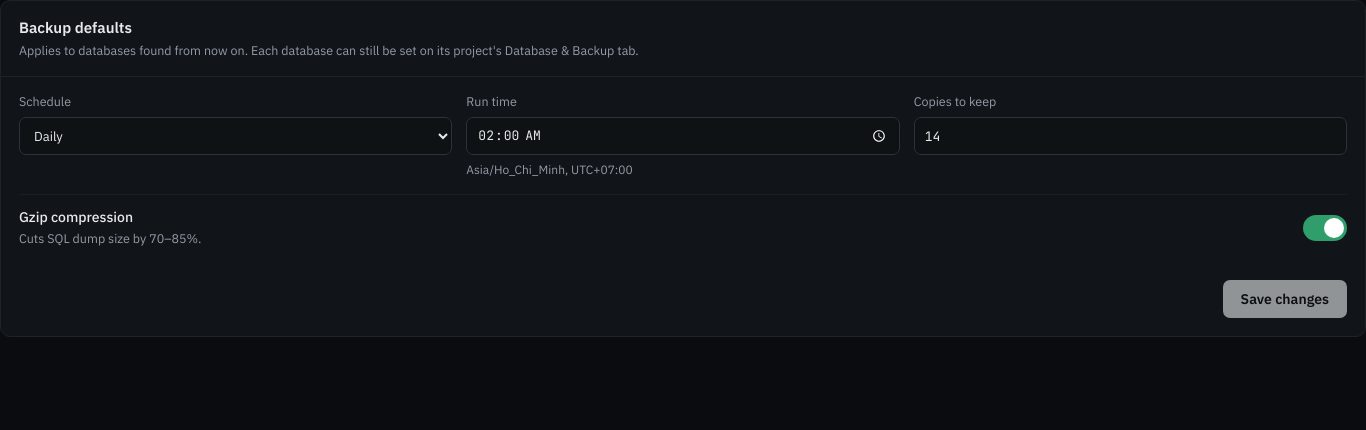
it: Backup defaults card › shows Day for Weekly, Monday first
Select "Weekly" in the dropdown labelled "Schedule" at (236, 136), box [19,117,452,155]
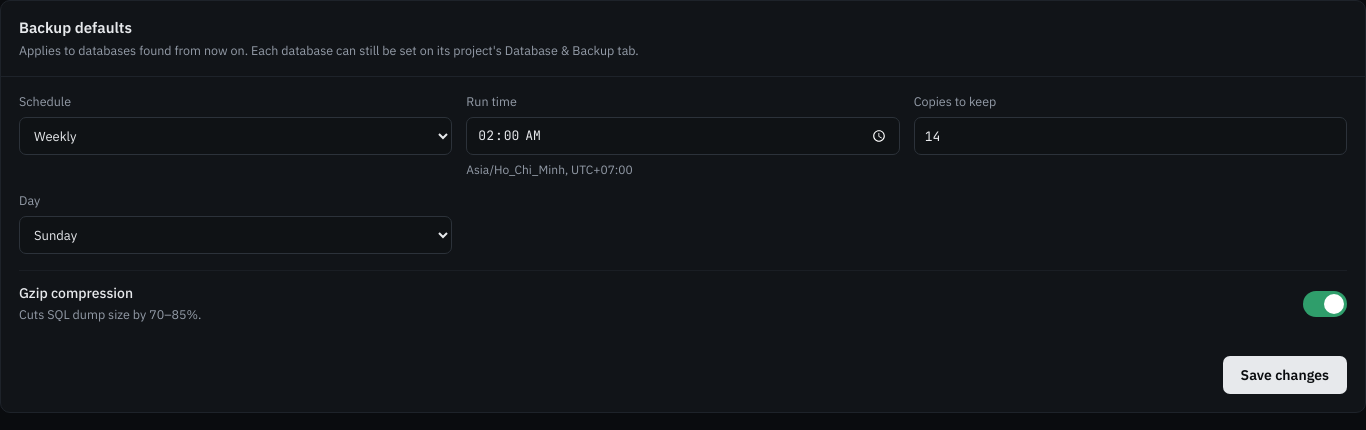
Expected: the dropdown labelled "Day" shows "Sunday", [19,216,452,254]
Select "Off" in the dropdown labelled "Schedule" at (236, 136), box [19,117,452,155]
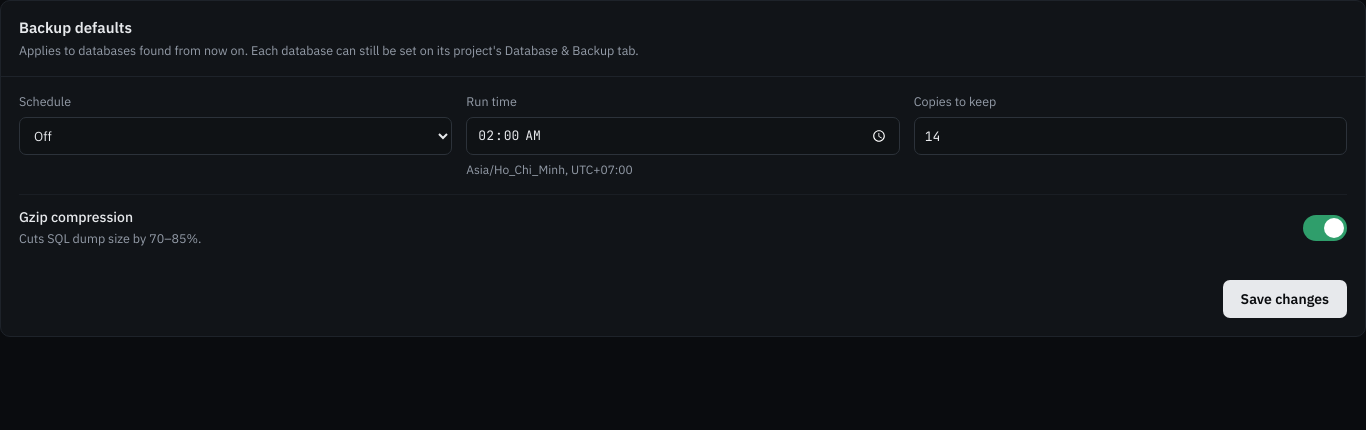
Expected: the label labelled "Day" is gone
